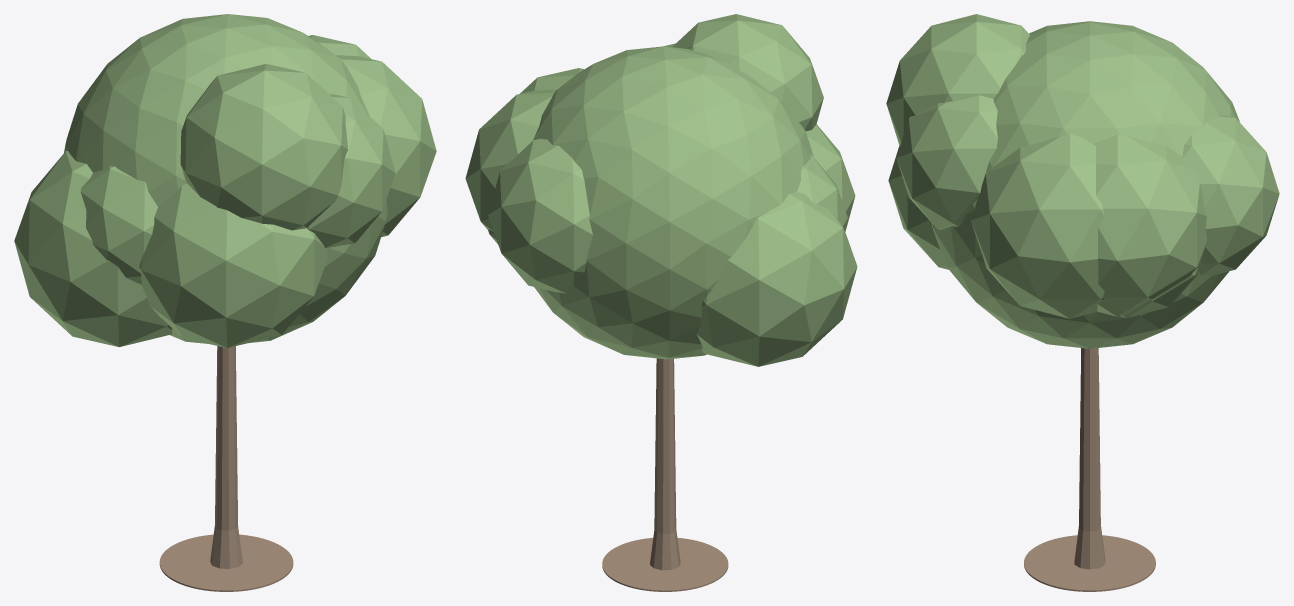
Rendered from tree.glb.
3 renders of one model, left to right at view 1: azimuth 30°, elevation 25°; view 2: azimuth 150°, elevation 25°; view 3: azimuth 270°, elevation 25°, orthographic. The views are drawn at different scales.
Visible parts, largest first — view 1: tree_leaf, tree_soil, tree_bark; view 2: tree_leaf, tree_soil, tree_bark; view 3: tree_leaf, tree_soil, tree_bark.
Part boxes in pixels (left/top/right/bottom): tree_leaf: left=14, top=14, right=436, bottom=347; tree_soil: left=159, top=534, right=293, bottom=591; tree_bark: left=210, top=346, right=242, bottom=568; tree_leaf: left=465, top=14, right=857, bottom=366; tree_soil: left=602, top=537, right=728, bottom=591; tree_bark: left=650, top=358, right=680, bottom=570; tree_leaf: left=886, top=14, right=1279, bottom=348; tree_soil: left=1024, top=535, right=1155, bottom=591; tree_bark: left=1074, top=348, right=1105, bottom=569.
Bounding box in the file's own units: 5.26 × 7.13 × 4.77.
